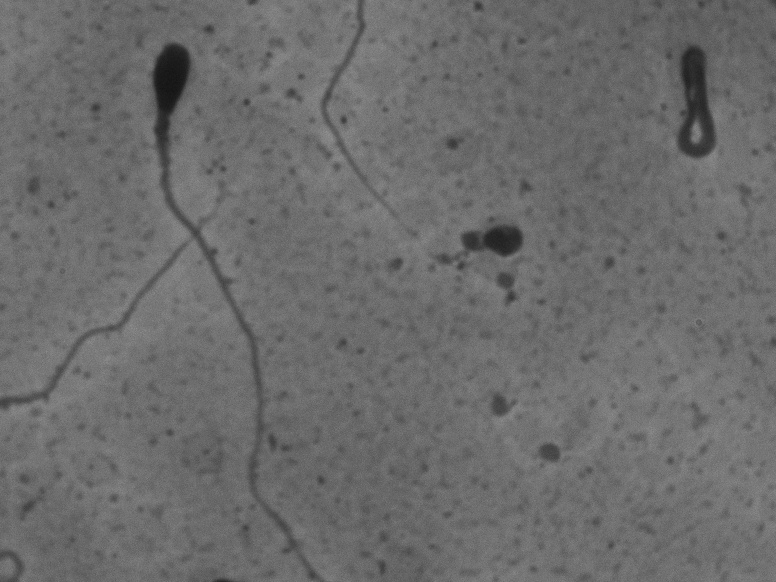Abnormal: (123, 31, 312, 569)
